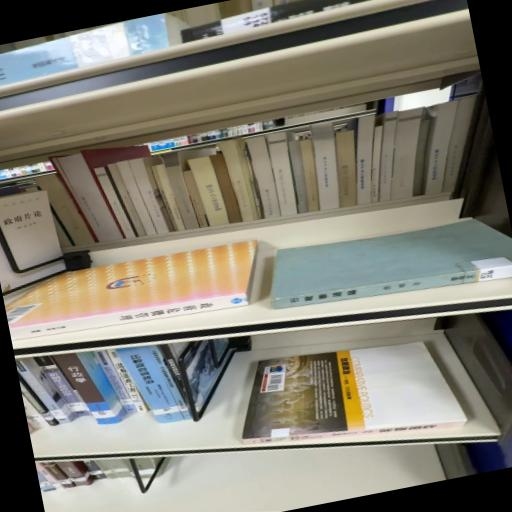flat: (6, 241, 258, 341), (243, 343, 468, 444), (272, 221, 512, 310)
